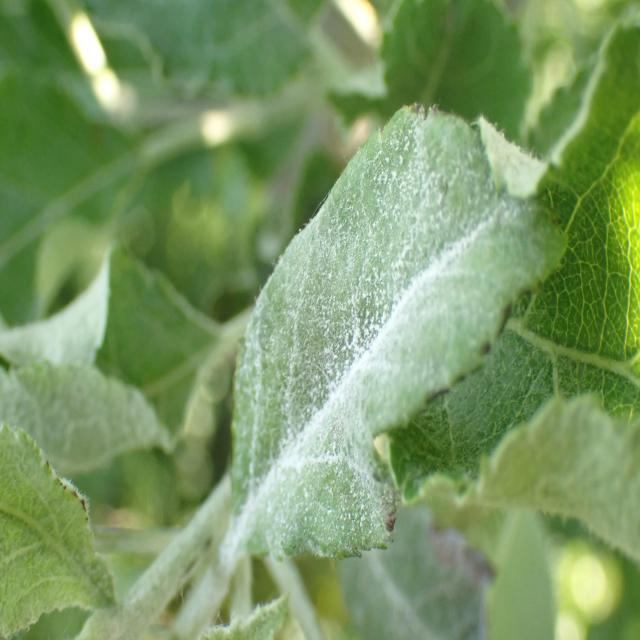Powdery_mildew: (224, 85, 569, 626), (2, 250, 319, 464), (0, 420, 165, 640), (185, 587, 315, 640)
